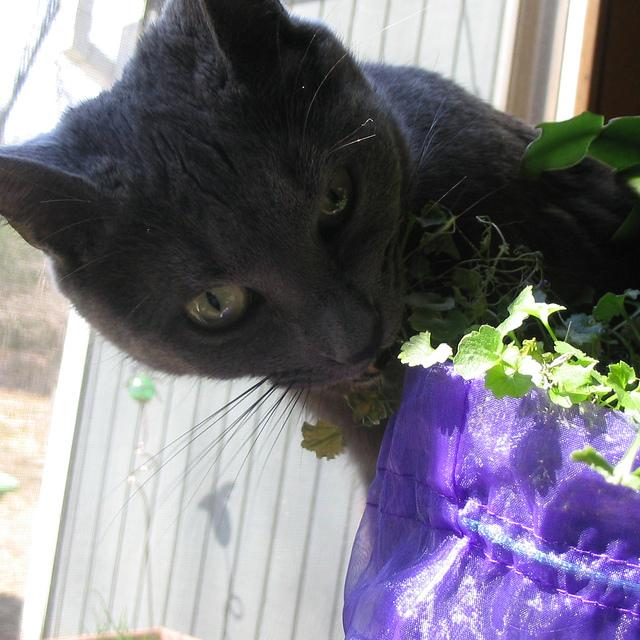animals: (0, 0, 371, 351)
